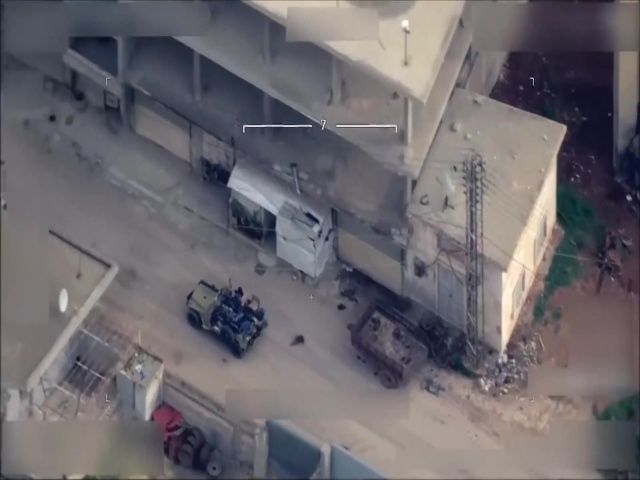vehicle: (183, 274, 269, 358)
